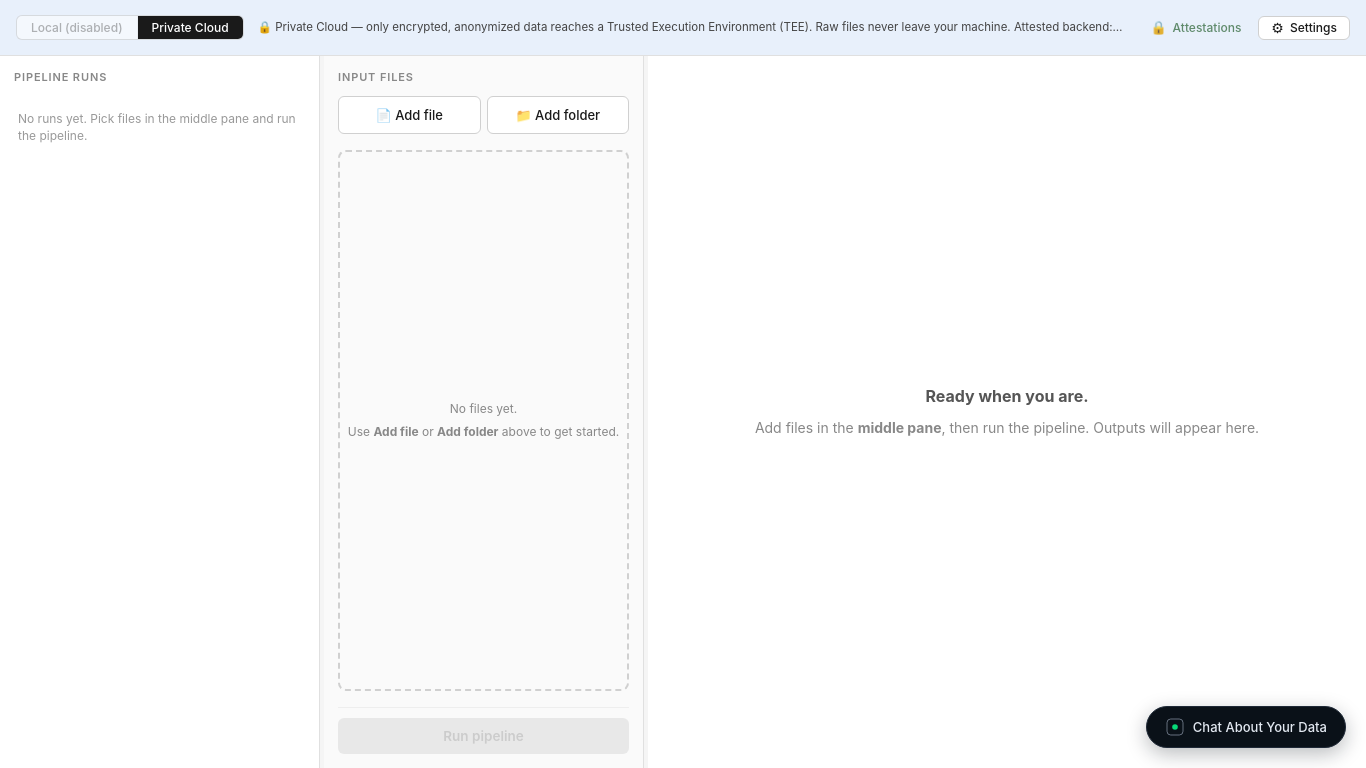
Test: App — staging-time filter + ignored-files modal (issue #156) › file picker: an unsupported .dmg is filtered out and surfaces in the modal
This screenshot has width=1366, height=768.
expect the text "Pipeline runs" is shown: met, box [14, 70, 107, 86]
Click the button titled "Add file(s)".
click(409, 115)  # box [338, 96, 480, 134]
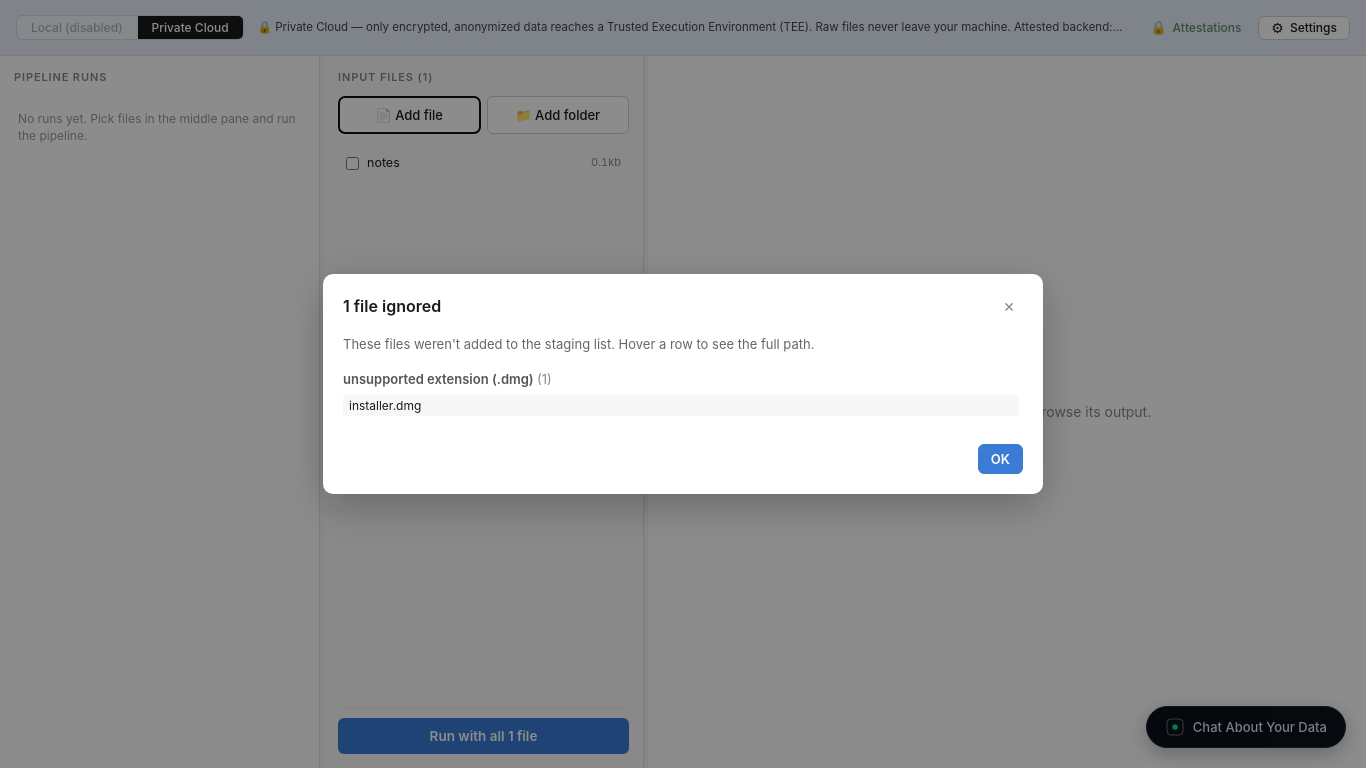
expect the text "Input files (1)" is shown: met, box [338, 70, 433, 86]
expect the heading "1 file ignored" is shown: met, box [343, 295, 441, 318]
expect the heading "unsupported extension (.dmg) (1)" is shown: met, box [343, 371, 552, 387]
